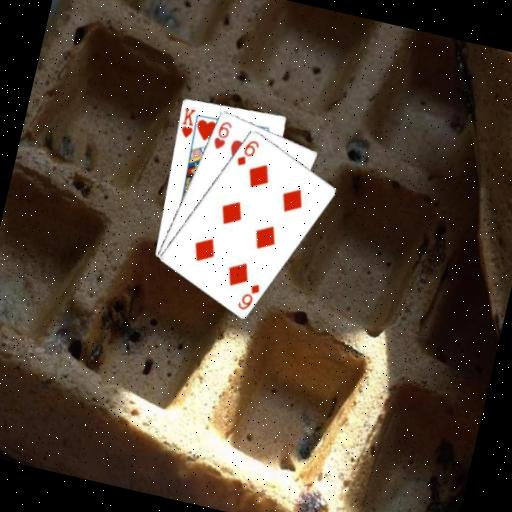6D: (232, 135, 262, 171), (234, 277, 263, 314)
6H: (209, 116, 235, 153)
KH: (175, 104, 199, 141)
